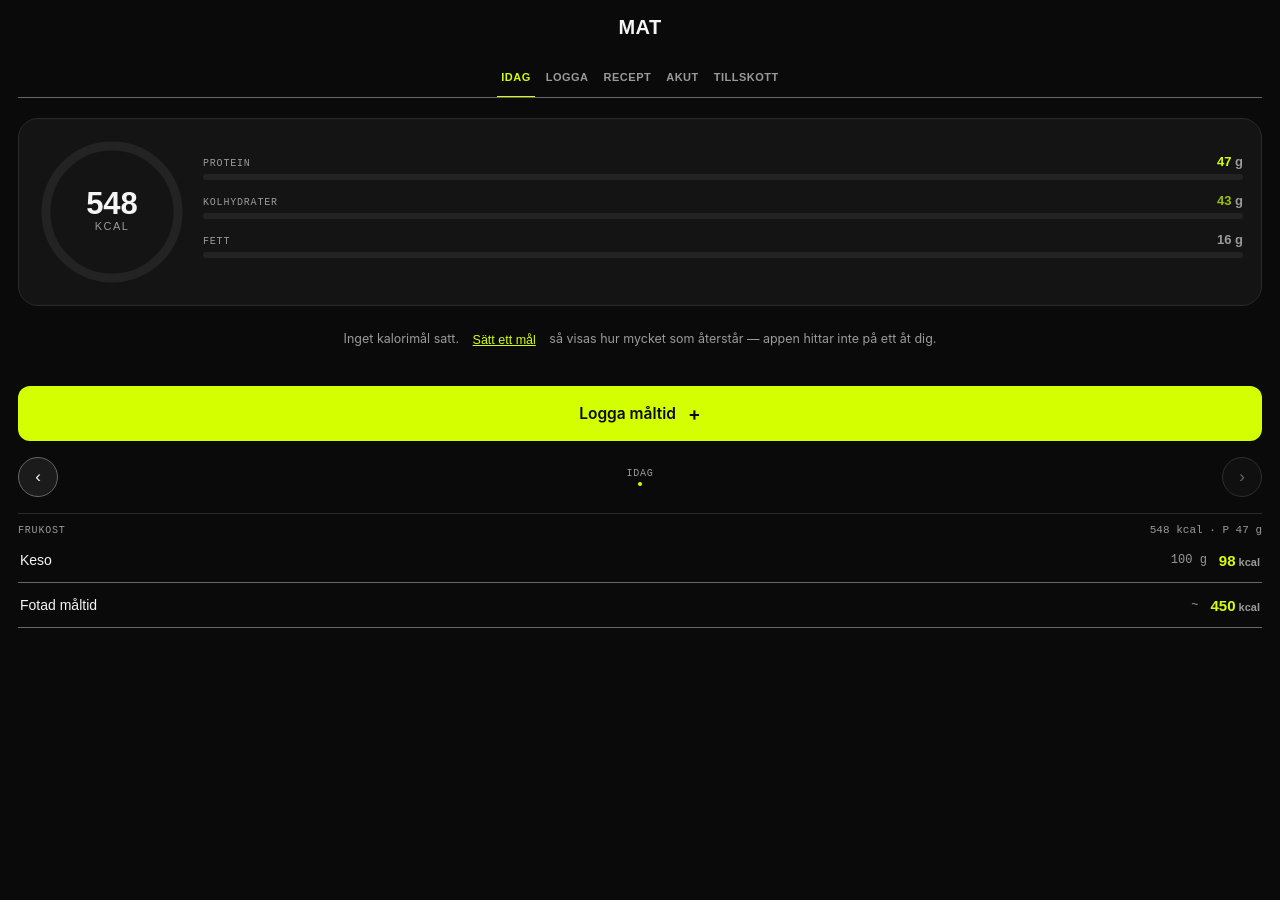
Test: namnet går att rätta › fältet visar postens nuvarande namn
Click the button "Keso 100 g 98 kcal" at coordinates (36, 560), box [18,538,1262,582]
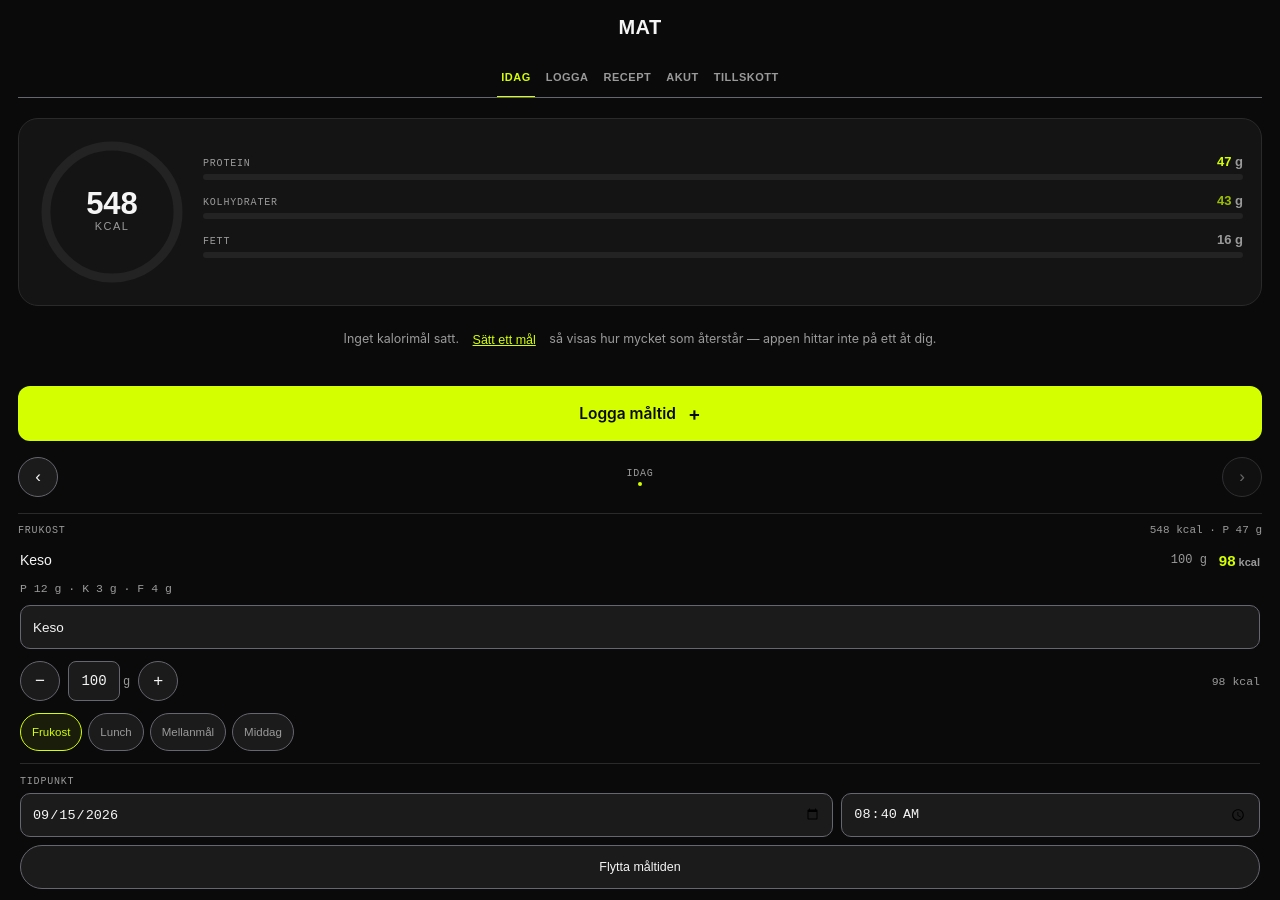
Result: the field named "Namn på måltiden" holds "Keso" at [20,605,1260,649]
